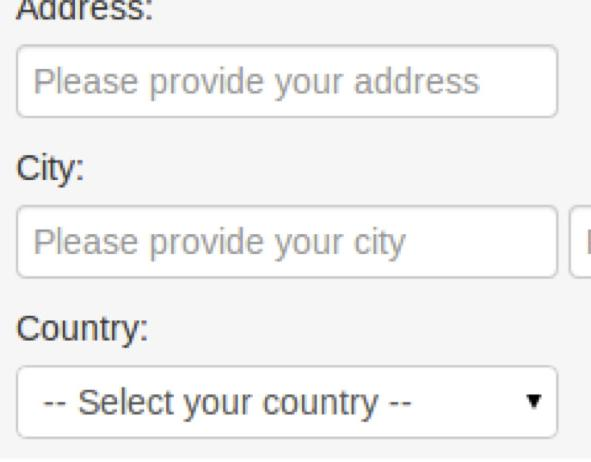field: (13, 40, 561, 123), (13, 202, 563, 280)
